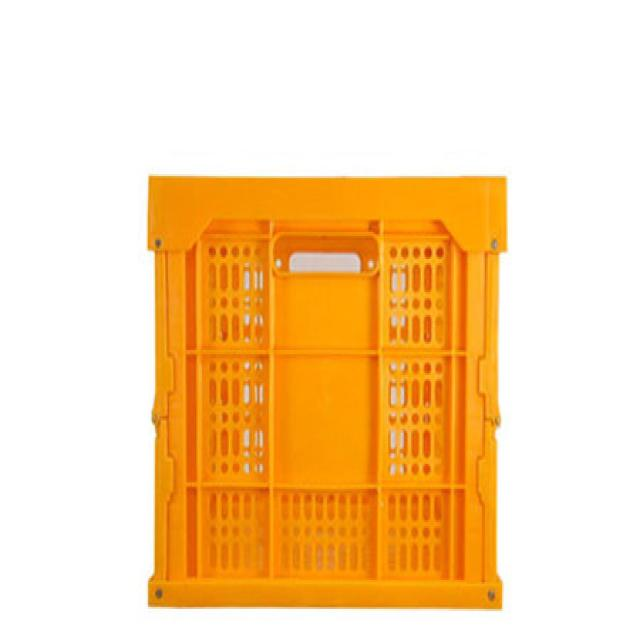basket: (147, 177, 508, 610)
